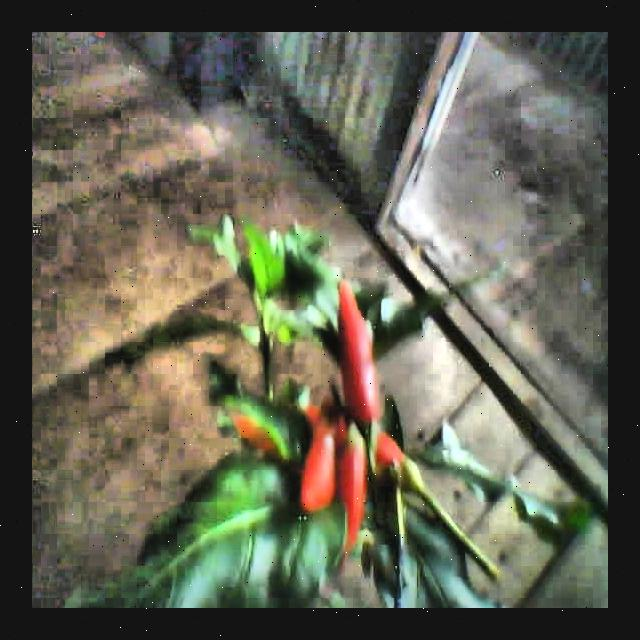Cabai: (325, 293, 396, 487), (302, 425, 373, 533)
